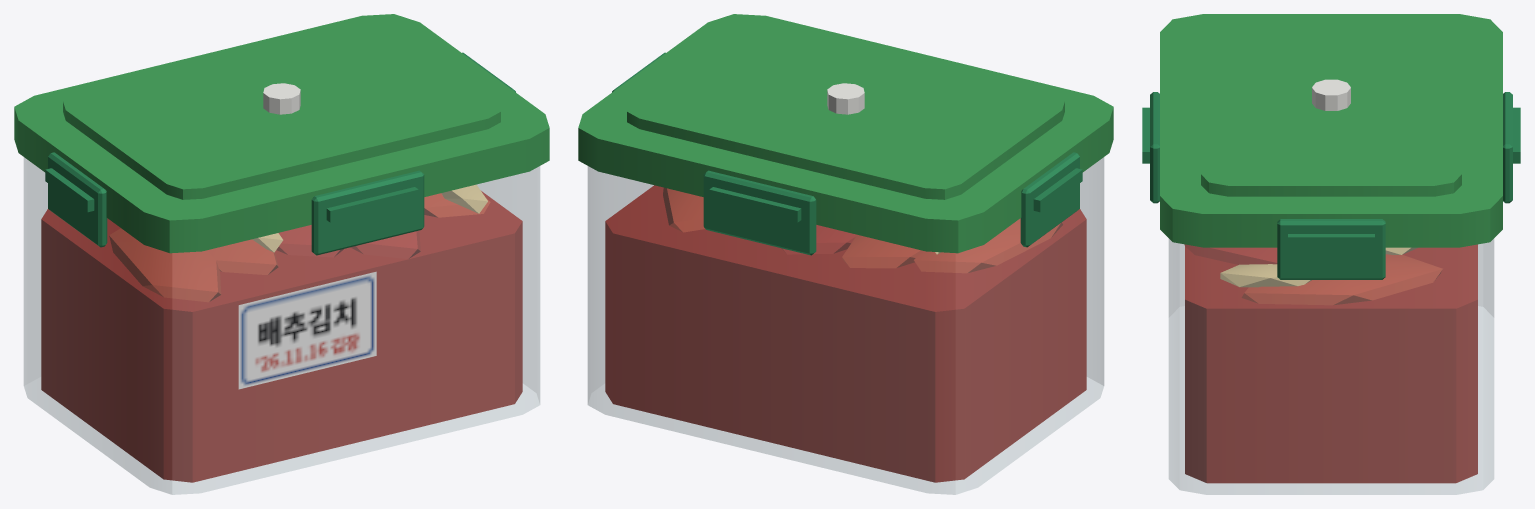
The model's file is SC_Home_Kimchi_Container.gltf.
3 renders of one model, left to right at view 1: azimuth 30°, elevation 25°; view 2: azimuth 150°, elevation 25°; view 3: azimuth 270°, elevation 25°, orthographic. The views are drawn at different scales.
Visible parts, largest first — view 1: SC_Home_Kimchi_Container; view 2: SC_Home_Kimchi_Container; view 3: SC_Home_Kimchi_Container.
Part boxes in pixels (box(x1,y1,x2,y2)): SC_Home_Kimchi_Container: box(14, 14, 549, 494); SC_Home_Kimchi_Container: box(578, 14, 1113, 494); SC_Home_Kimchi_Container: box(1142, 14, 1520, 494).
Bounding box in the file's own units: 0.468 × 0.316 × 0.348.
3 materials, 3 textured.
